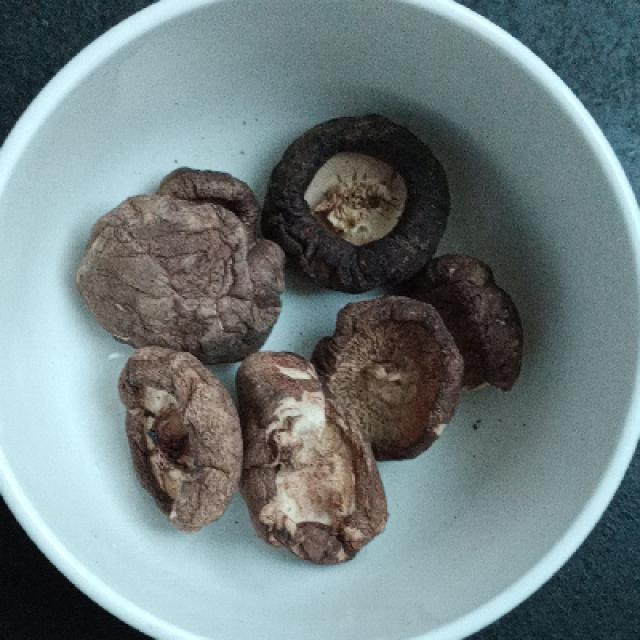Lentinus edodes: (82, 169, 285, 361), (236, 348, 388, 565), (271, 113, 453, 286), (119, 342, 244, 527), (332, 293, 461, 458), (428, 255, 530, 394)
